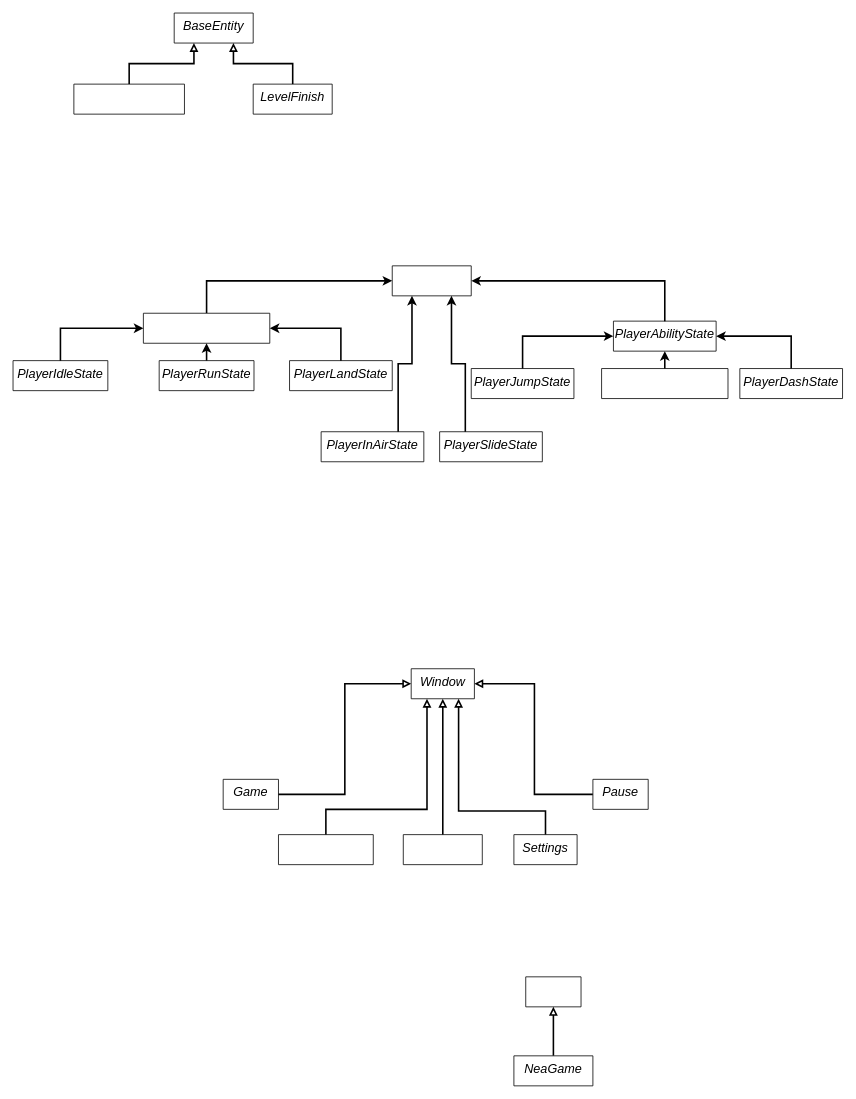
The diagram is 856 pixels wide and 1099 high, and some of its shapes have lost their labels. Here are the shapes that lost their labels. From the top down, the centre of each, then its label:
point 128,98: Player
point 431,280: PlayerState
point 206,327: PlayerGroundedState
point 664,383: PlayerWallJumpState
point 325,849: LevelSelection
point 442,849: MainMenu
point 553,991: Root
